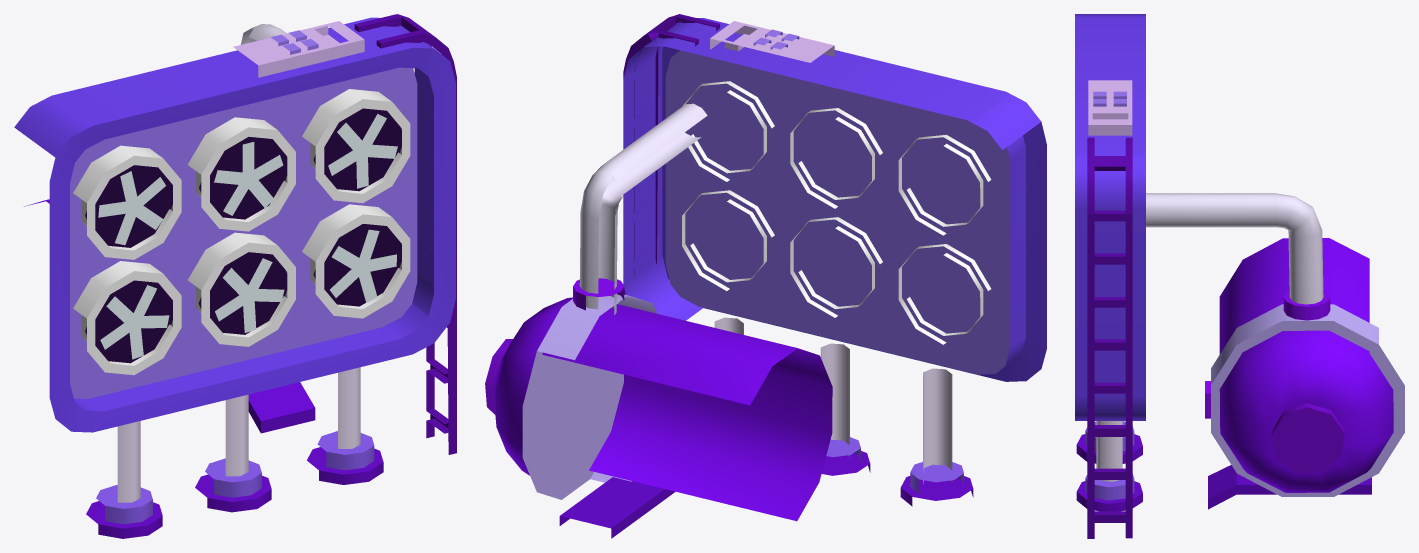
File: 2026-1-9-CarbonCapture-v067.fbx
The picture shows the model from 3 angles, left to right: view 1: azimuth 30°, elevation 25°; view 2: azimuth 150°, elevation 25°; view 3: azimuth 270°, elevation 25°; orthographic projection. The views are drawn at different scales.
Parts seen in each view (by area): view 1: CarbonCaptureSystemBody, Fan1, Fan5, Fan3, Fan2, Fan4, Fan6; view 2: CarbonCaptureSystemBody; view 3: CarbonCaptureSystemBody.
Boxes of the visible parts, box(x1,y1,x2,y2) form: CarbonCaptureSystemBody: box(14, 14, 456, 538); Fan1: box(214, 142, 283, 215); Fan5: box(100, 285, 169, 359); Fan3: box(328, 114, 397, 188); Fan2: box(98, 171, 165, 245); Fan4: box(330, 229, 396, 302); Fan6: box(215, 258, 284, 332); CarbonCaptureSystemBody: box(485, 14, 1046, 538); CarbonCaptureSystemBody: box(1075, 14, 1404, 538).
Size of the model in its own units: 348 by 335 by 264.
